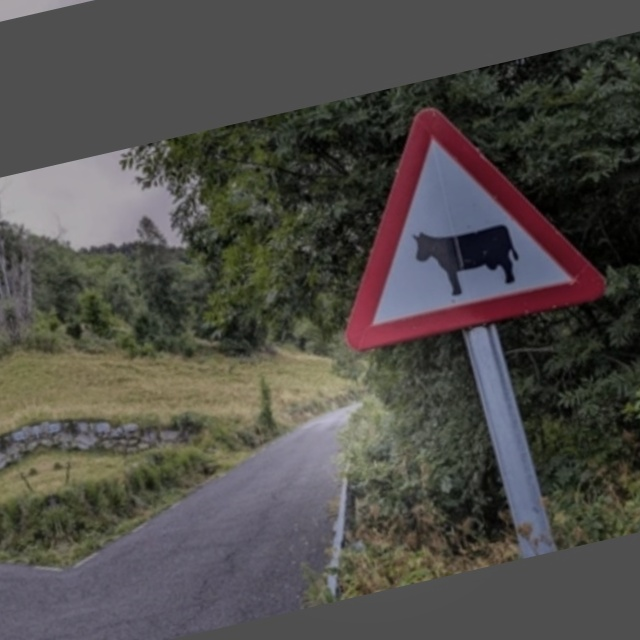Cattle: (317, 77, 603, 359)
